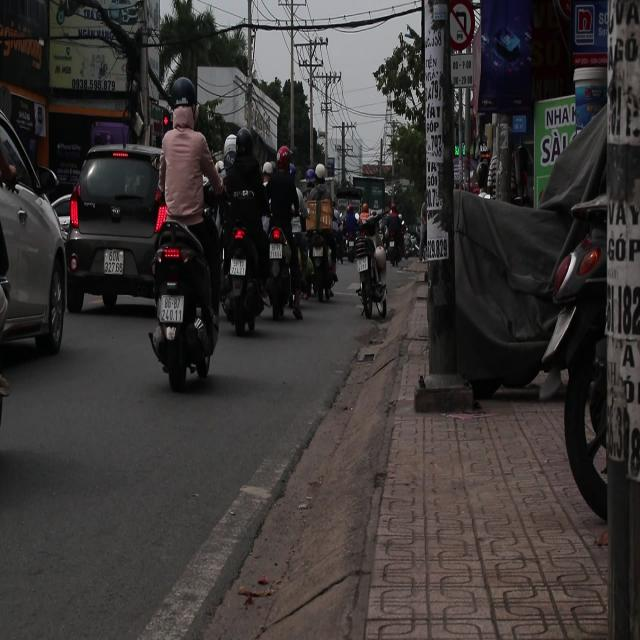car: (1, 92, 71, 375), (66, 143, 165, 316)
motorbike: (148, 219, 219, 389), (220, 202, 268, 337), (260, 209, 306, 349), (354, 206, 390, 327), (304, 202, 337, 319)
